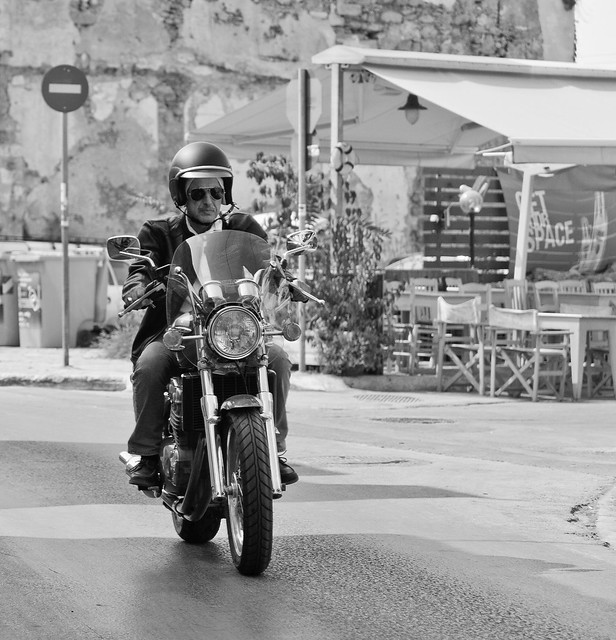helmet: (174, 134, 233, 189)
